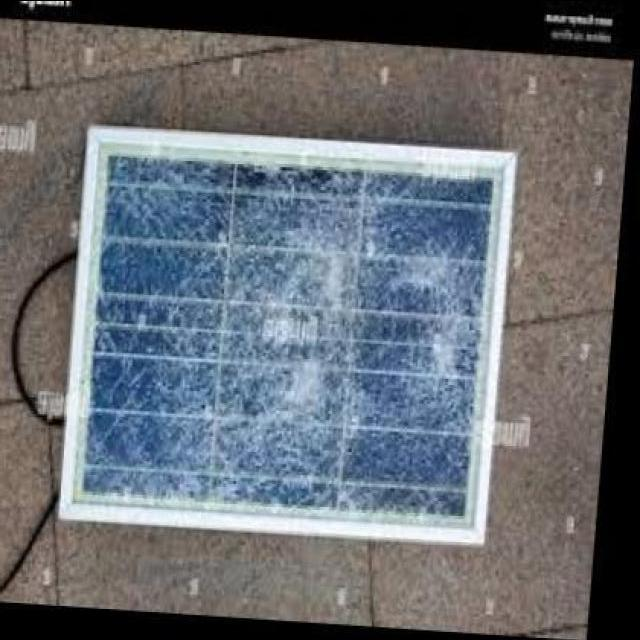cracked: (66, 132, 516, 522)
